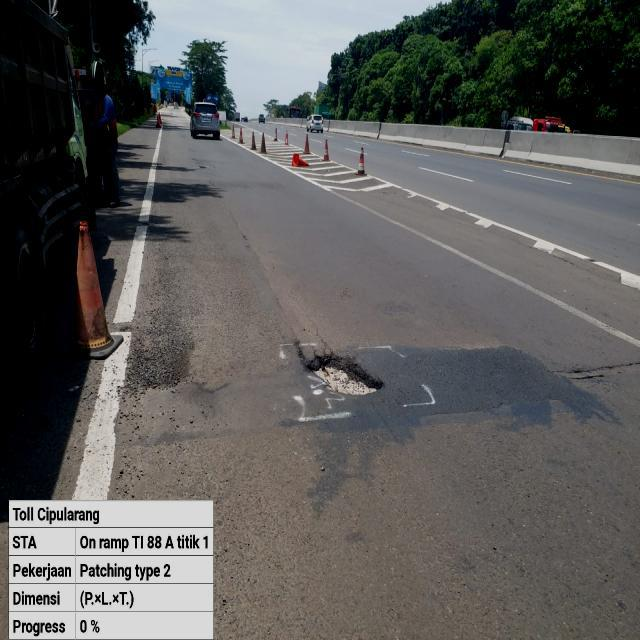Buraco: (303, 351, 387, 398), (547, 360, 640, 384), (195, 163, 211, 170)
